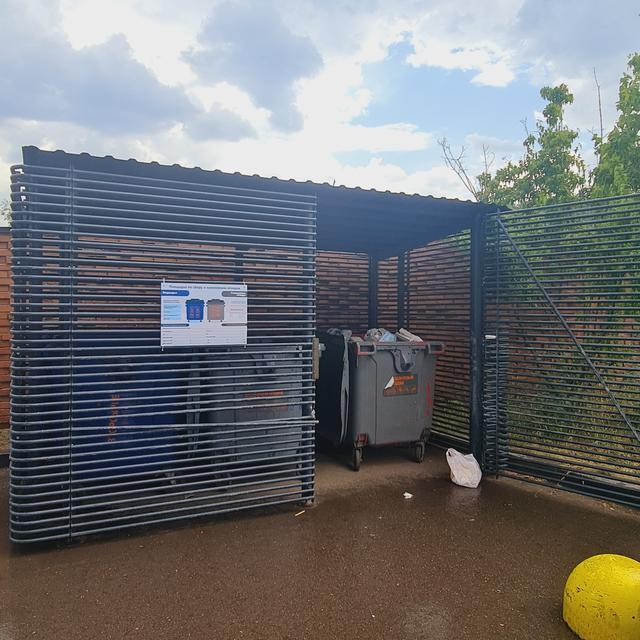Trash_Can_Full: (346, 328, 444, 448)
